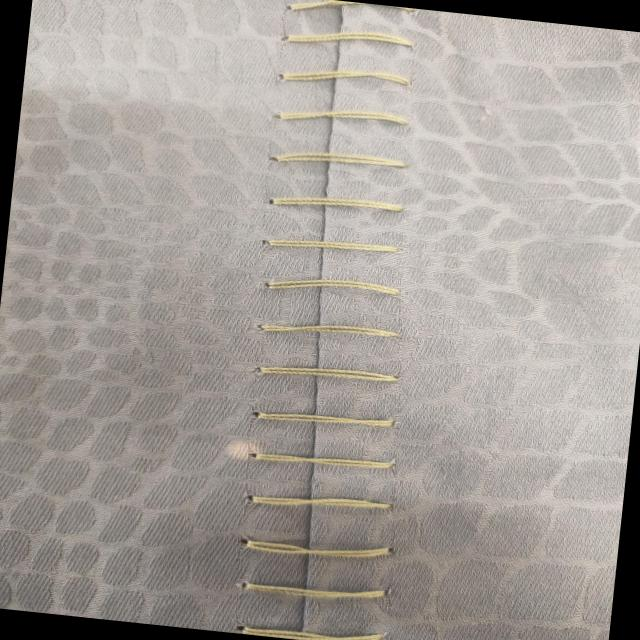gray stitch: (209, 0, 457, 640)
